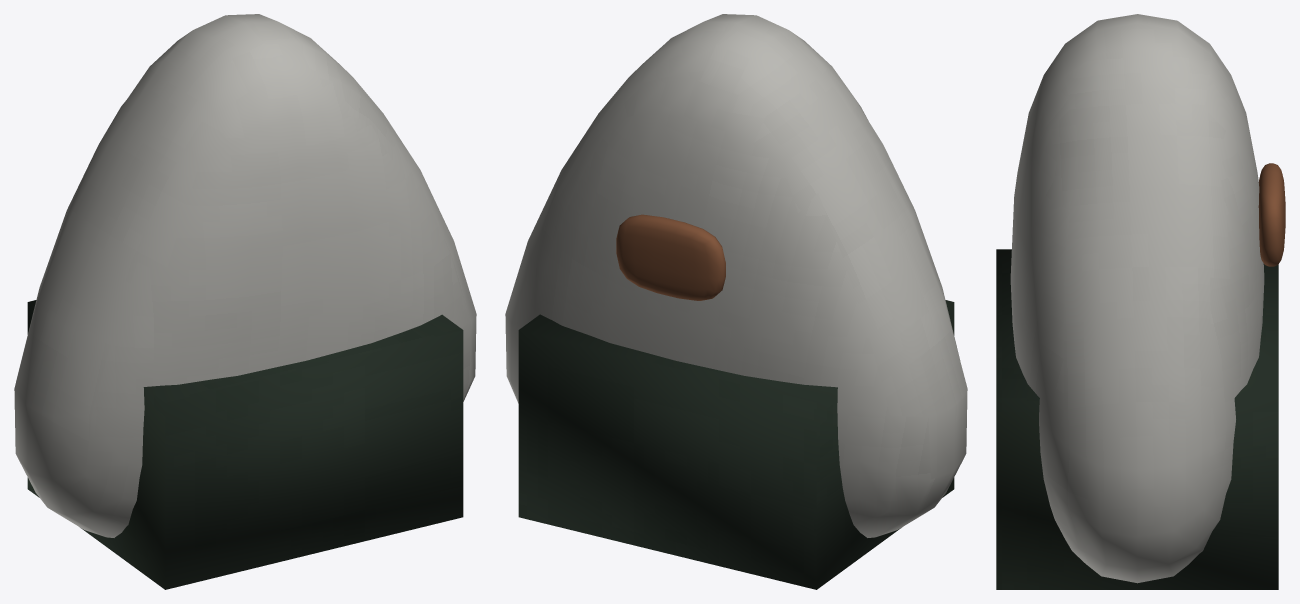
Rendered from onigiri_konbu.glb.
3 views of the same model, side by side, from view 1: azimuth 30°, elevation 25°; view 2: azimuth 150°, elevation 25°; view 3: azimuth 270°, elevation 25° (orthographic). The views are drawn at different scales.
Parts seen in each view (by area): view 1: onigiri_konbu_felt_rice, onigiri_konbu_felt_nori; view 2: onigiri_konbu_felt_rice, onigiri_konbu_felt_nori, onigiri_konbu_felt_brown; view 3: onigiri_konbu_felt_rice, onigiri_konbu_felt_nori, onigiri_konbu_felt_brown.
Part boxes in pixels (x1,y1,x2,y2): onigiri_konbu_felt_rice: (14, 14, 476, 537); onigiri_konbu_felt_nori: (27, 300, 463, 589); onigiri_konbu_felt_rice: (505, 14, 967, 537); onigiri_konbu_felt_nori: (518, 300, 954, 589); onigiri_konbu_felt_brown: (616, 214, 725, 300); onigiri_konbu_felt_rice: (1010, 14, 1264, 583); onigiri_konbu_felt_nori: (996, 249, 1278, 589); onigiri_konbu_felt_brown: (1258, 163, 1285, 266).
Bounding box in the file's own units: 0.1097 × 0.12 × 0.0615.
Materials: 3 (2 with a texture image).
